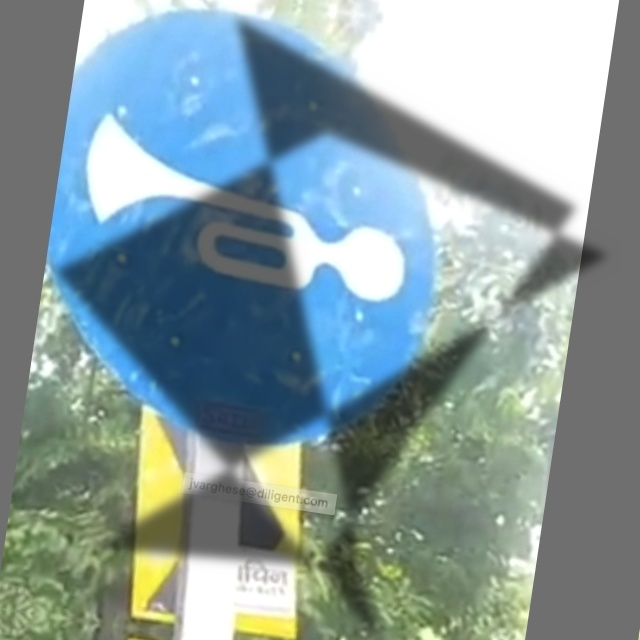Compulsory_Sound_Horn: (47, 36, 439, 391)
